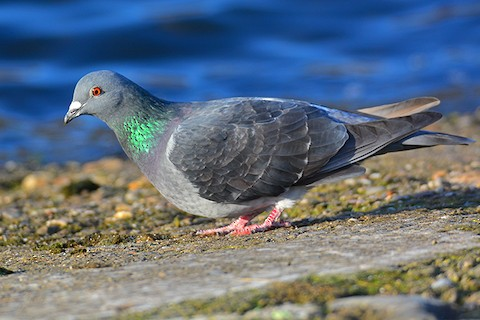pigeon: (60, 63, 471, 239)
